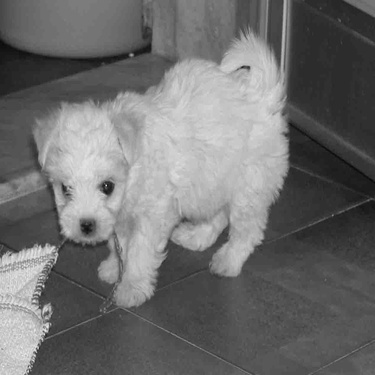dog: (11, 25, 299, 313)
